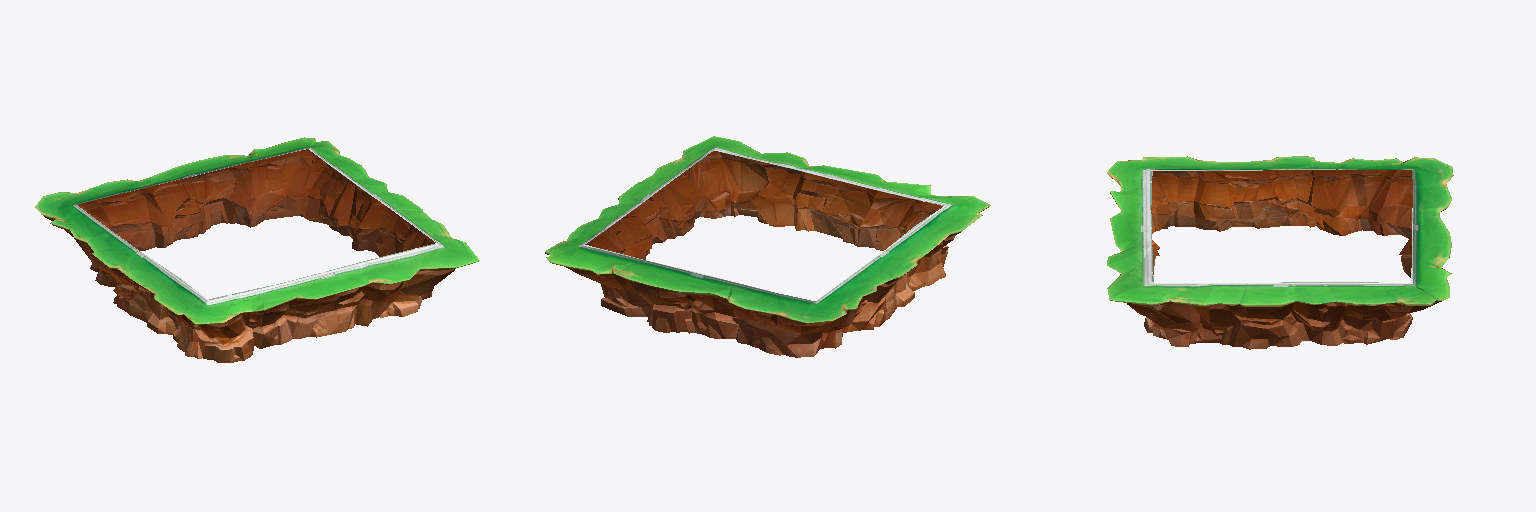
The picture shows the model from 3 angles: view 1: azimuth 30°, elevation 25°; view 2: azimuth 150°, elevation 25°; view 3: azimuth 270°, elevation 25°; orthographic projection.
Parts seen in each view (by area): view 1: Cliff; view 2: Cliff; view 3: Cliff.
Part boxes in pixels (x1,y1,x2,y2): Cliff: (35, 137, 479, 362); Cliff: (545, 136, 990, 357); Cliff: (1107, 156, 1453, 349).
Bounding box in the file's own units: 2.07 × 0.4061 × 2.09.
1 materials, 1 textured.